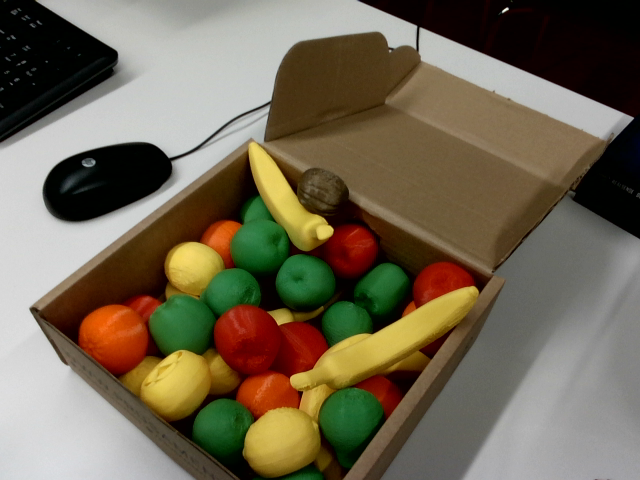banana: (290, 287, 479, 391), (224, 139, 336, 258), (268, 302, 325, 326)
green apple: (301, 375, 392, 470), (222, 208, 298, 285), (346, 256, 423, 332), (185, 392, 256, 469), (268, 246, 341, 318), (148, 293, 216, 356), (194, 261, 264, 320), (315, 295, 374, 346)
lemon: (132, 338, 225, 431), (154, 228, 228, 302), (186, 345, 245, 403), (116, 345, 161, 396), (0, 1, 1, 1)
orange: (68, 289, 162, 383), (231, 363, 302, 423), (196, 215, 241, 269)
red apple: (200, 291, 295, 386), (312, 211, 388, 288), (268, 317, 332, 383), (403, 251, 475, 308)
walnut: (287, 157, 355, 225)
